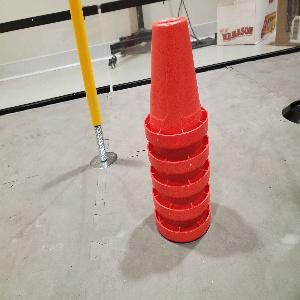Red_5: (148, 13, 208, 240), (188, 54, 208, 57)
